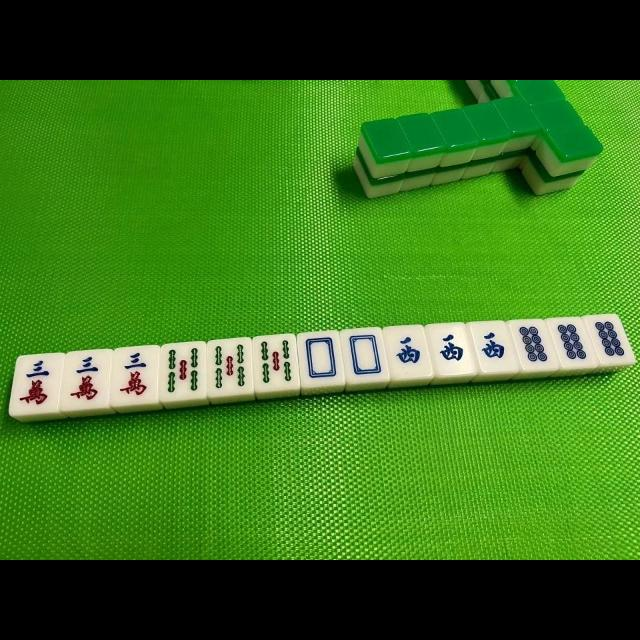b5: (160, 342, 208, 400), (208, 338, 252, 396), (254, 334, 296, 392)
c3: (63, 350, 111, 408), (13, 356, 61, 412), (112, 346, 158, 404)
d8: (510, 318, 556, 372), (549, 317, 593, 371), (587, 315, 631, 363)
dw: (342, 328, 388, 384), (300, 331, 344, 385)
ww: (382, 325, 432, 377), (428, 324, 472, 376), (472, 321, 516, 373)
